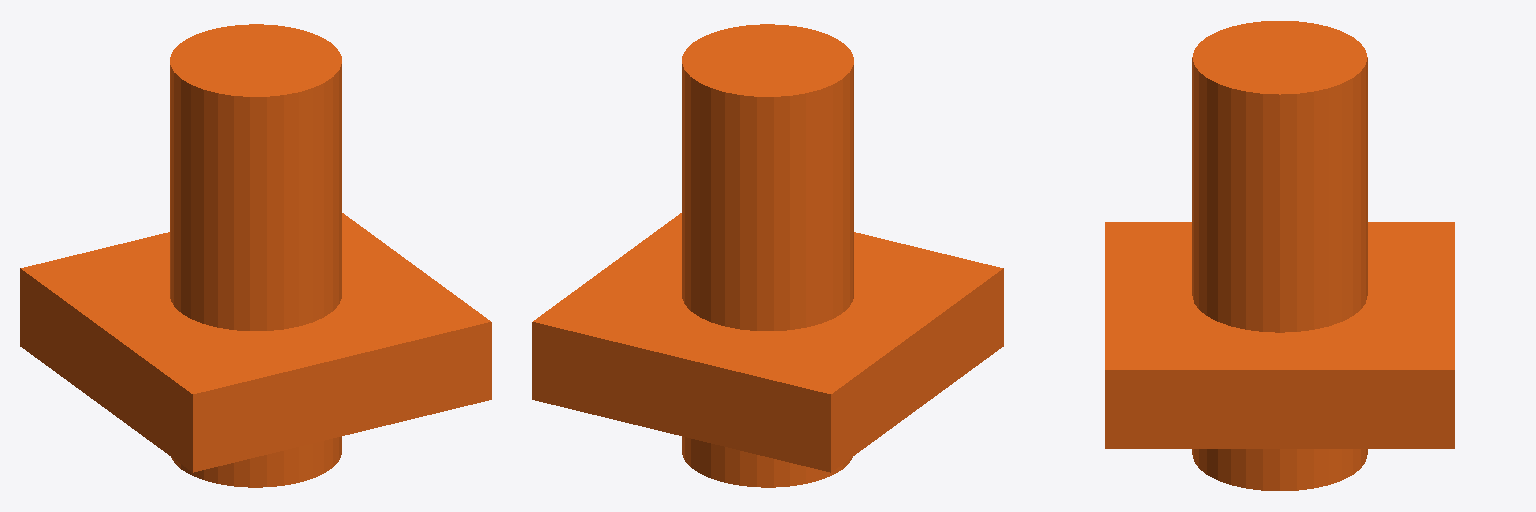
URDF robot description (abb_irb140_cain):
<?xml version="1.0" ?>

<robot name="abb_irb140_cain">

    <material name="abb_orange">
        <color rgba="0.9647 0.4706 0.1569 1"/>
    </material>

    <material name="yellow">
        <color rgba="0 1 1 1"/>
    </material>

    <link name="base_link">
        <visual>
            <origin xyz="0 0 0" rpy="0 0 0"/>
            <geometry>
                <!-- <mesh filename="package://colab_supervision_description/meshes/visual/base_link.stl"/> -->
                <box size="0.4 0.4 0.1"/>
            </geometry>
            <material name="abb_orange" />
        </visual>
    </link>

    <link name="link_1">
        <visual>
            <origin xyz="0 0 0" rpy="0 0 0"/>
            <geometry>
                <cylinder radius="0.1" length="0.5"/>
            </geometry>
            <material name="abb_orange"/>
        </visual>
    </link>

    <joint name="joint1" type="revolute">
        <parent link="base_link"/>
        <child link="link_1"/>
        <origin xyz="0 0 0.1" rpy="0 0 0"/>
        <axis xyz="0 0 1"/>
        <limit lower="-3.14" upper="3.14" effort="1000.0" velocity="1.0"/>
    </joint>
</robot>

--- What the picture shows (computed from the rendered views, not written in the file) ---
Views: 3 orthographic renders of the robot side by side, from view 1: azimuth 30°, elevation 25°; view 2: azimuth 150°, elevation 25°; view 3: azimuth 270°, elevation 25°.
Model abb_irb140_cain with 2 links and 1 joints (1 revolute), rooted at base_link, posed all joints at 0.
Links seen in each view (by area): view 1: base_link, link_1; view 2: base_link, link_1; view 3: base_link, link_1.
Boxes of the visible links, x1=… form: base_link: x1=20, y1=213, x2=491, y2=472; link_1: x1=170, y1=24, x2=341, y2=487; base_link: x1=532, y1=213, x2=1003, y2=472; link_1: x1=682, y1=24, x2=853, y2=487; base_link: x1=1105, y1=222, x2=1454, y2=448; link_1: x1=1192, y1=21, x2=1367, y2=490.
Bounding box of the posed robot: 0.4 × 0.4 × 0.5 m (x, y, z).
Geometry: primitives only (box / cylinder / sphere), no mesh files.
